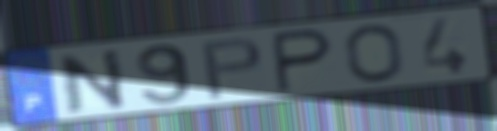4: (420, 14, 470, 78)
9: (134, 43, 194, 107)
N: (54, 46, 130, 116)
O: (342, 23, 408, 84)
P: (269, 26, 336, 96), (198, 35, 266, 102)
